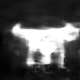plane: (10, 20, 80, 68)
